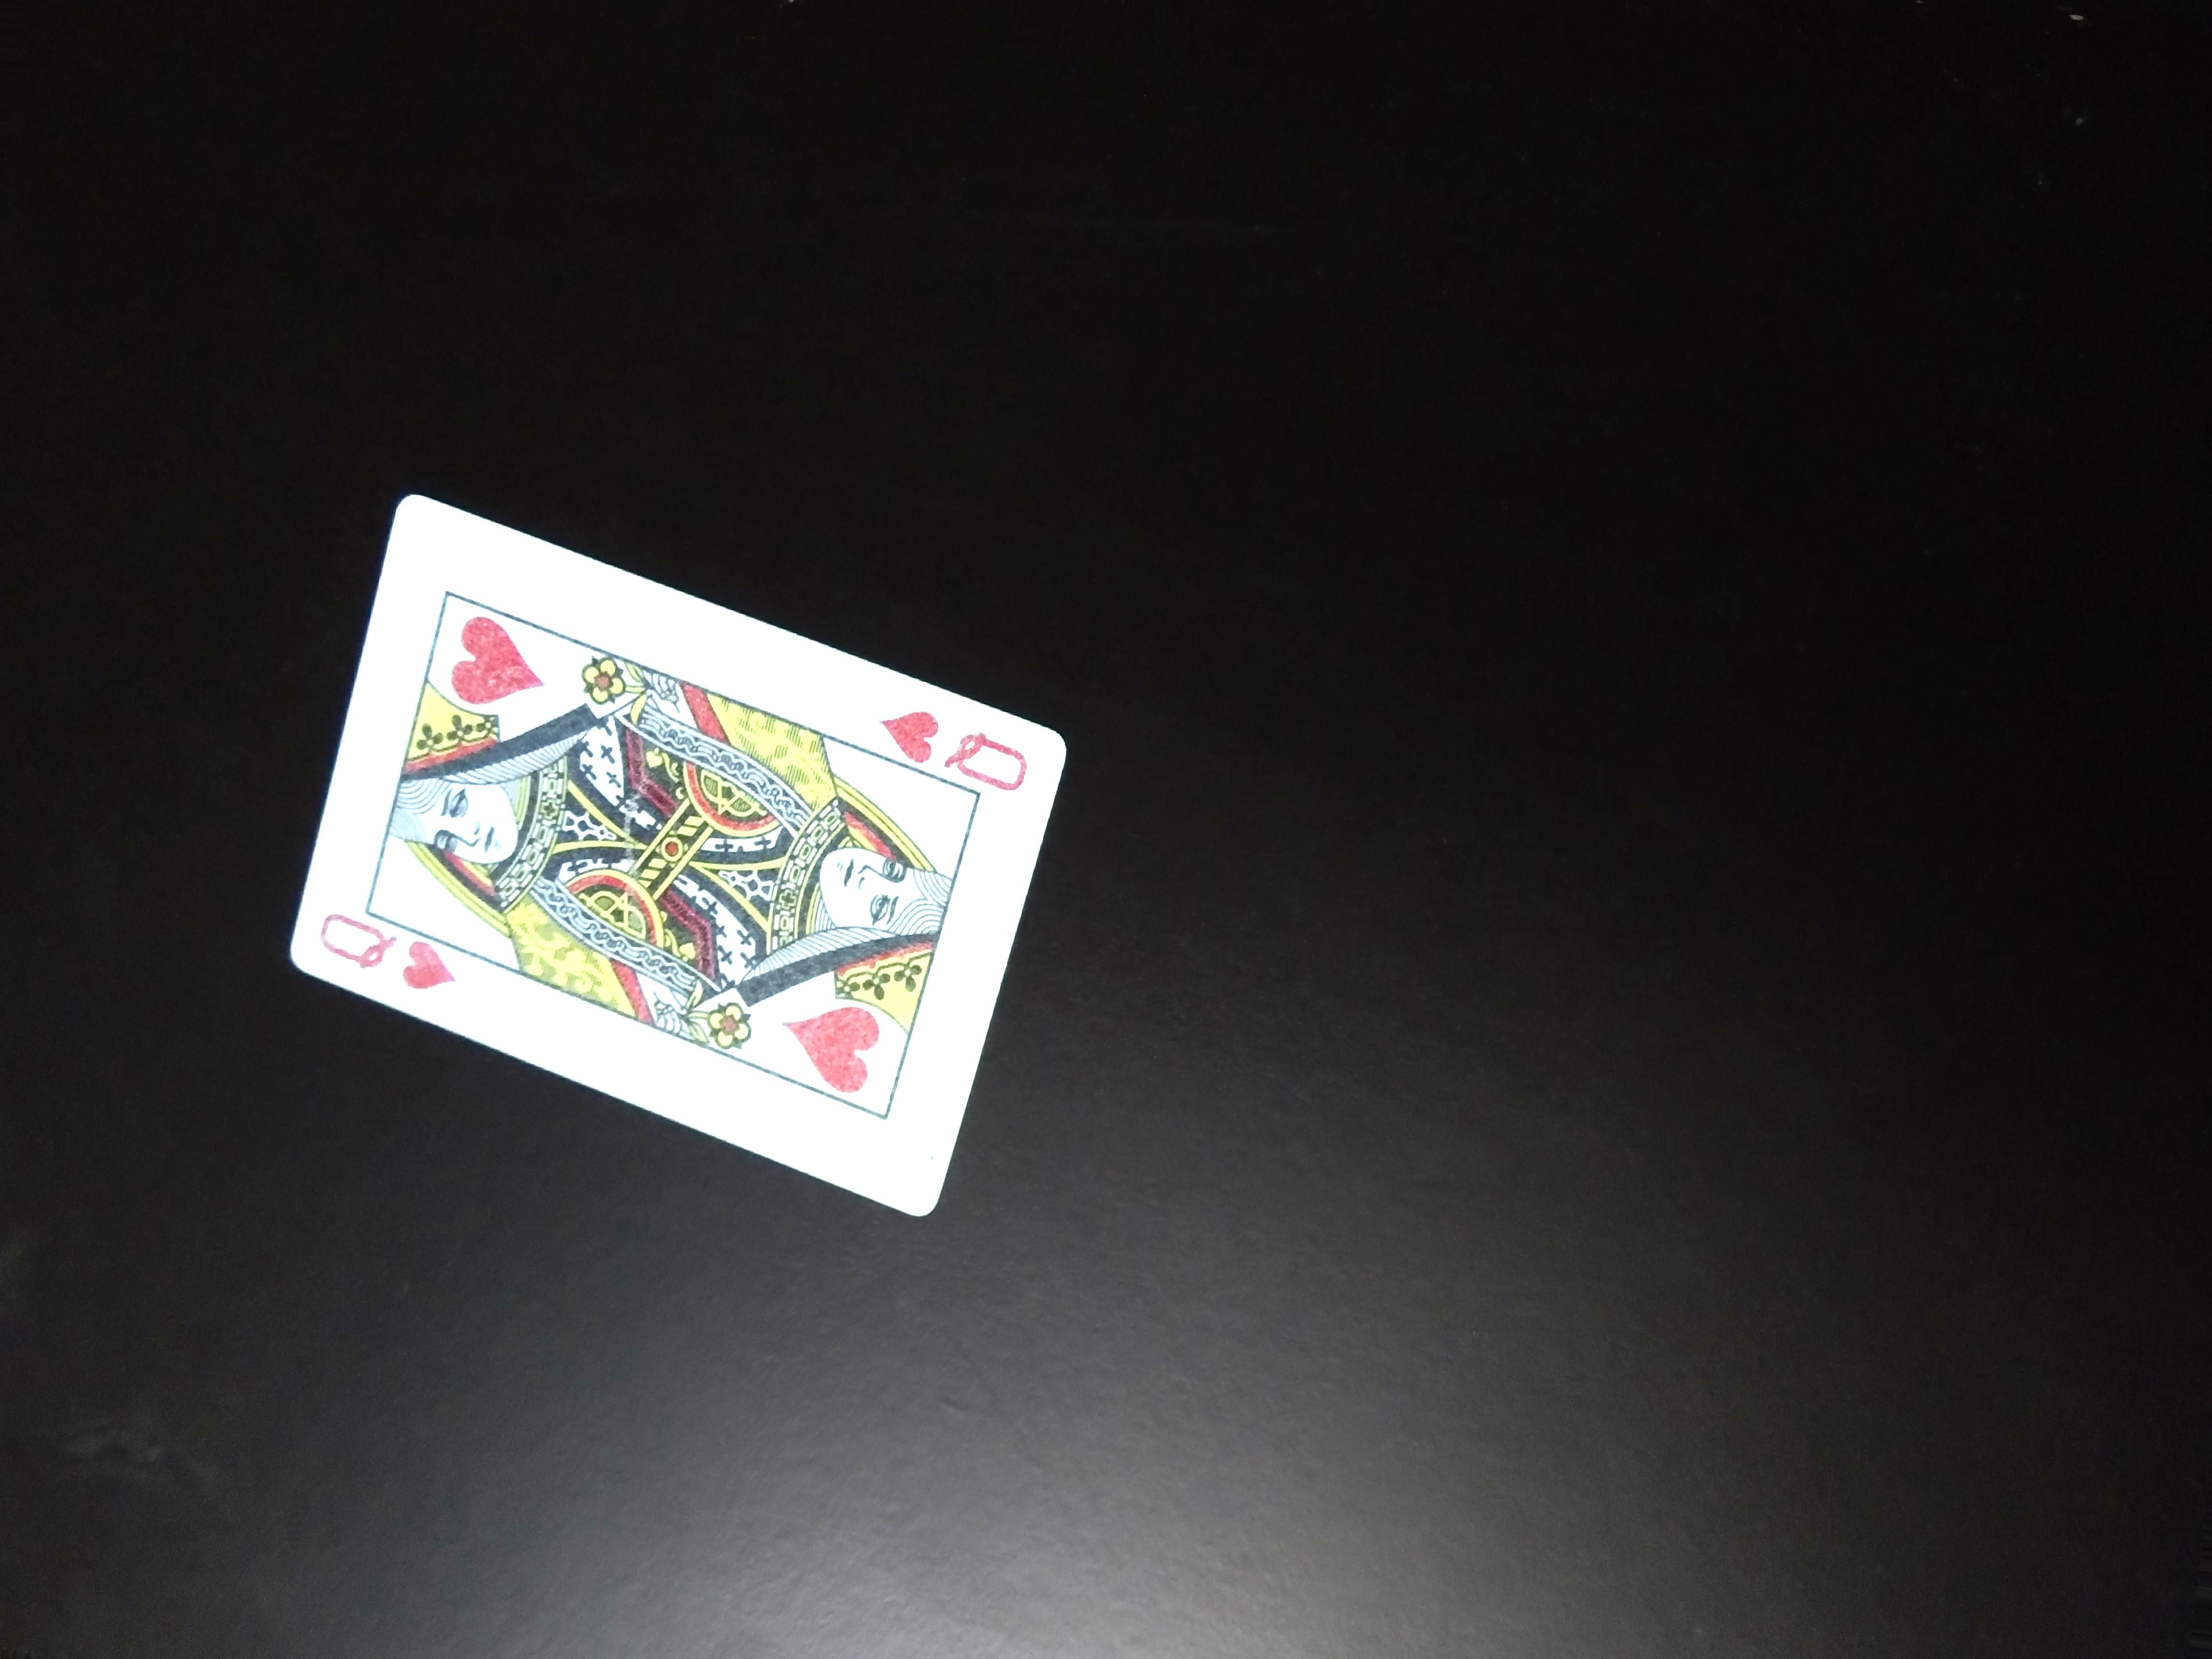QH: (873, 681, 1038, 800)
